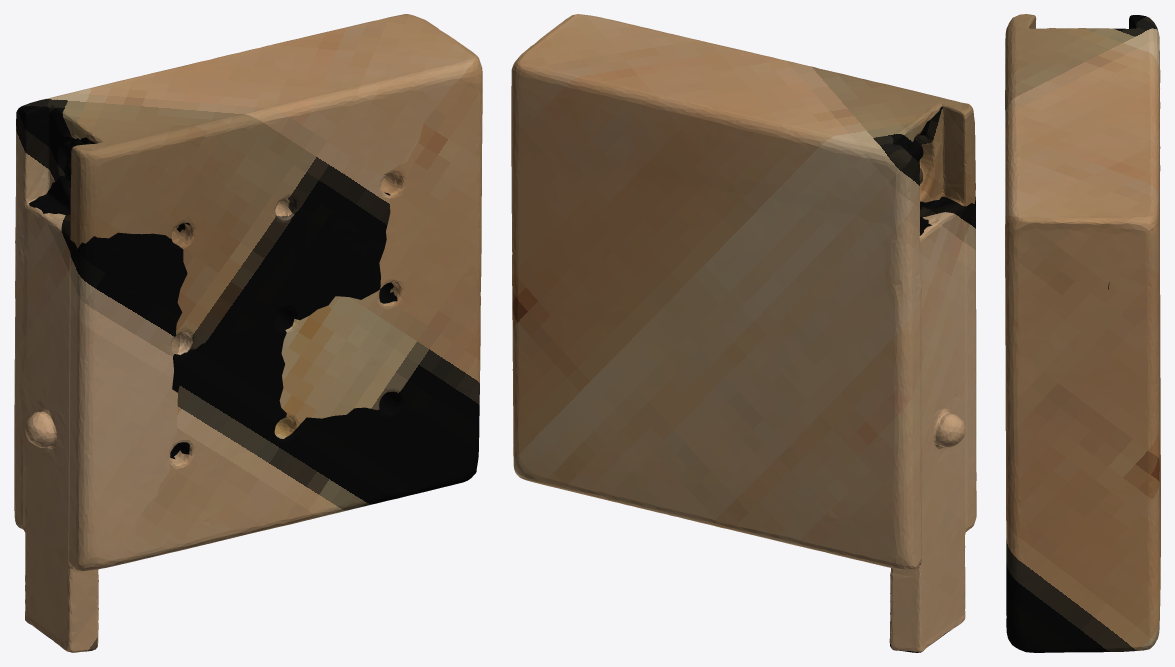
3 renders of one model, left to right at view 1: azimuth 30°, elevation 25°; view 2: azimuth 150°, elevation 25°; view 3: azimuth 270°, elevation 25°, orthographic. The views are drawn at different scales.
Bounding box in the file's own units: 0.1322 × 0.1524 × 0.0407.
